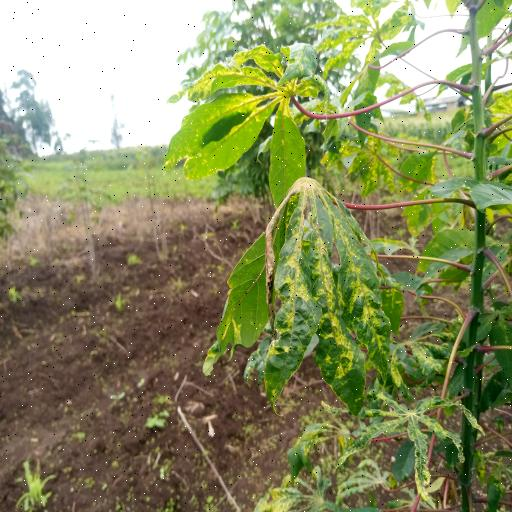Cassava_Mosaic: (230, 178, 408, 396), (168, 40, 337, 168)
